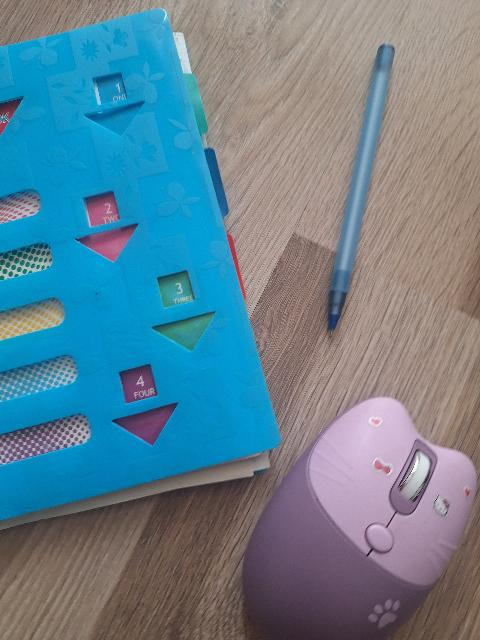writing_tool: (323, 43, 394, 339)
